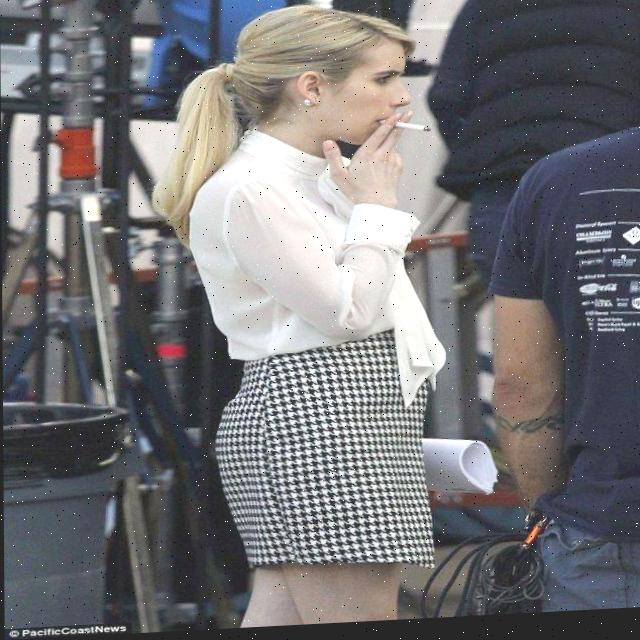cigarette: (379, 120, 430, 139)
